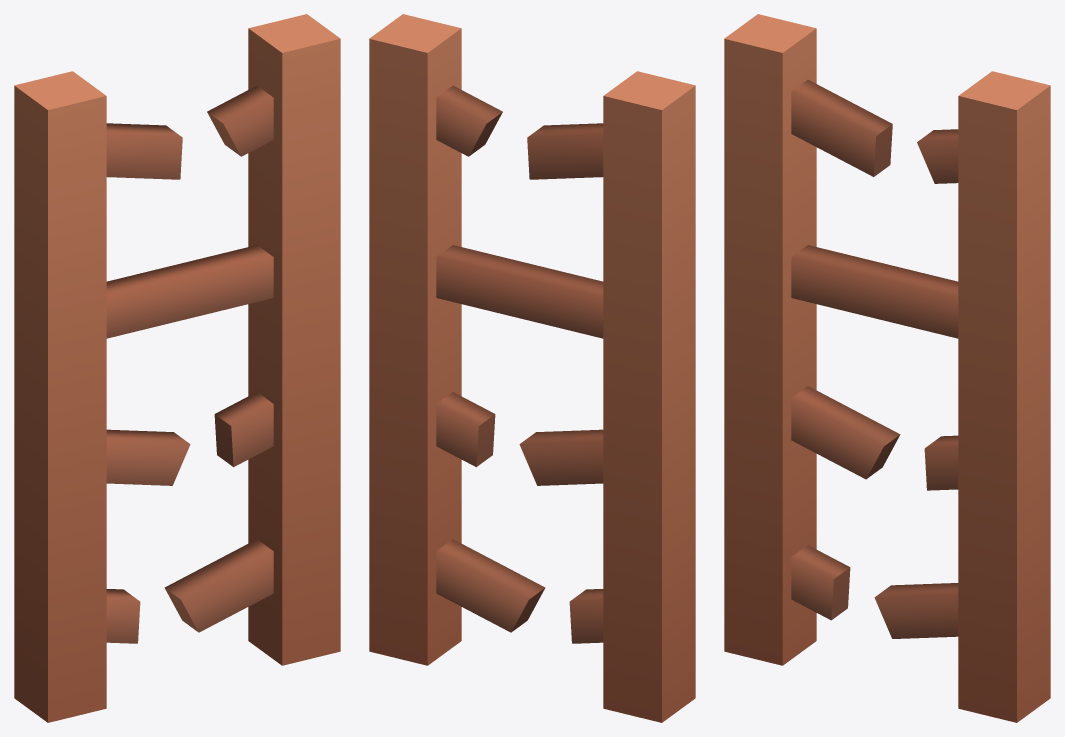
The model's file is ladder-broken.glb.
3 renders of one model, left to right at view 1: azimuth 30°, elevation 25°; view 2: azimuth 150°, elevation 25°; view 3: azimuth 330°, elevation 25°, orthographic.
Parts seen in each view (by area): view 1: ladder-broken; view 2: ladder-broken; view 3: ladder-broken.
Boxes of the visible parts, x1,y1,x2,y2 form: ladder-broken: (14, 14, 340, 722); ladder-broken: (369, 14, 695, 722); ladder-broken: (724, 14, 1050, 722).
Bounding box in the file's own units: 0.5 × 1 × 0.1.
Materials: 1 (1 with a texture image).
